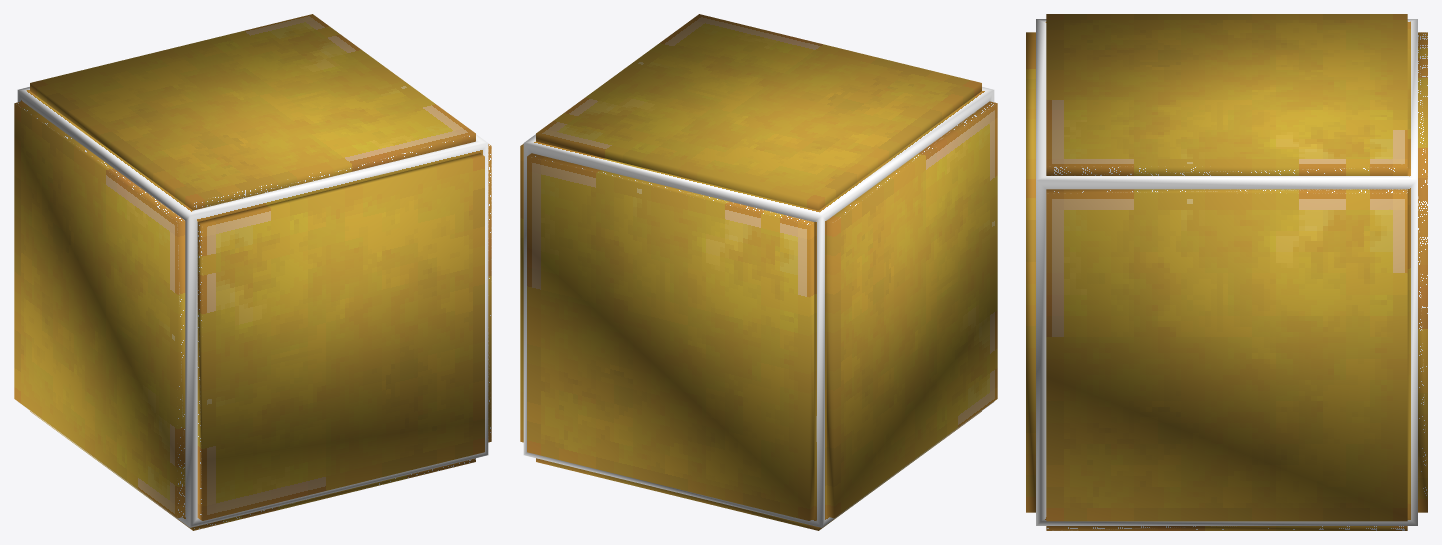
Rendered from EmptyBlock.glb.
3 views of the same model, side by side, from view 1: azimuth 30°, elevation 25°; view 2: azimuth 150°, elevation 25°; view 3: azimuth 270°, elevation 25° (orthographic). The views are drawn at different scales.
Visible parts, largest first — view 1: m0; view 2: m0; view 3: m0.
Part boxes in pixels (<box>): m0: <box>14,14,491,530</box>; m0: <box>520,14,997,530</box>; m0: <box>1026,14,1427,530</box>.
Size of the model in its own units: 2.5 by 2.5 by 2.5.
Materials: 2 (2 with a texture image).
